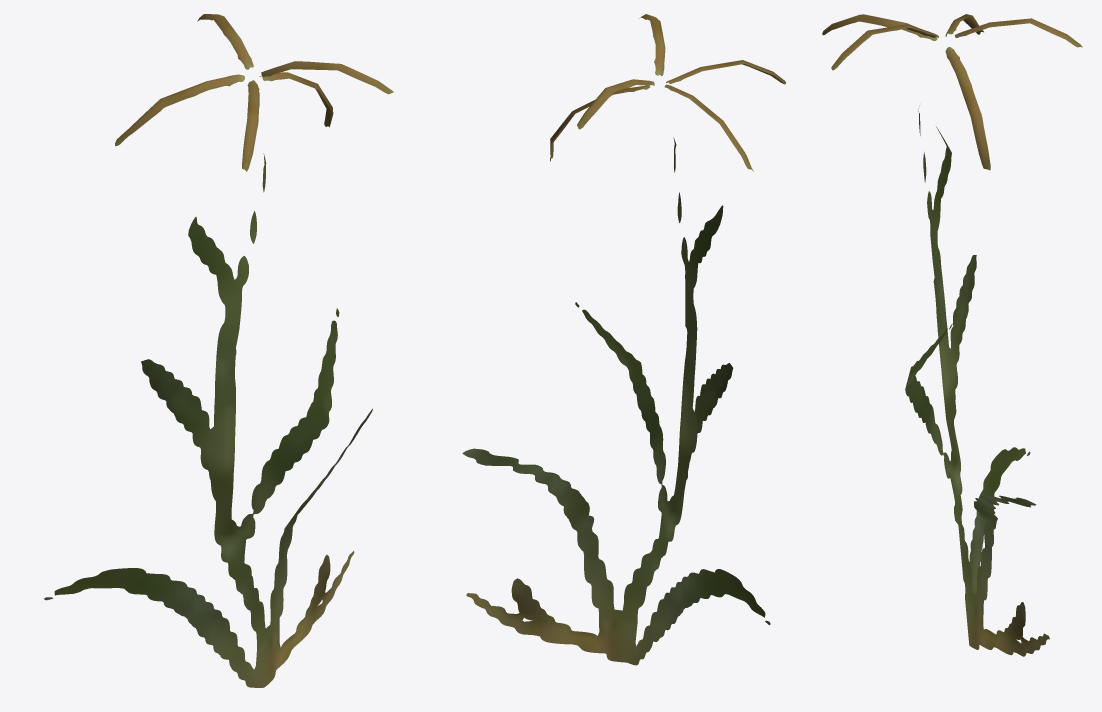
3 renders of one model, left to right at view 1: azimuth 30°, elevation 25°; view 2: azimuth 150°, elevation 25°; view 3: azimuth 270°, elevation 25°, orthographic. The views are drawn at different scales.
Visible parts, largest first — view 1: grass_bermuda_01__b_lod1; view 2: grass_bermuda_01__b_lod1; view 3: grass_bermuda_01__b_lod1.
Part boxes in pixels (x1,y1,x2,y2): grass_bermuda_01__b_lod1: (44,14,393,687); grass_bermuda_01__b_lod1: (462,14,785,665); grass_bermuda_01__b_lod1: (822,14,1082,656).
Bounding box in the file's own units: 0.0766 × 0.1272 × 0.0493.
1 material, 1 textured.
